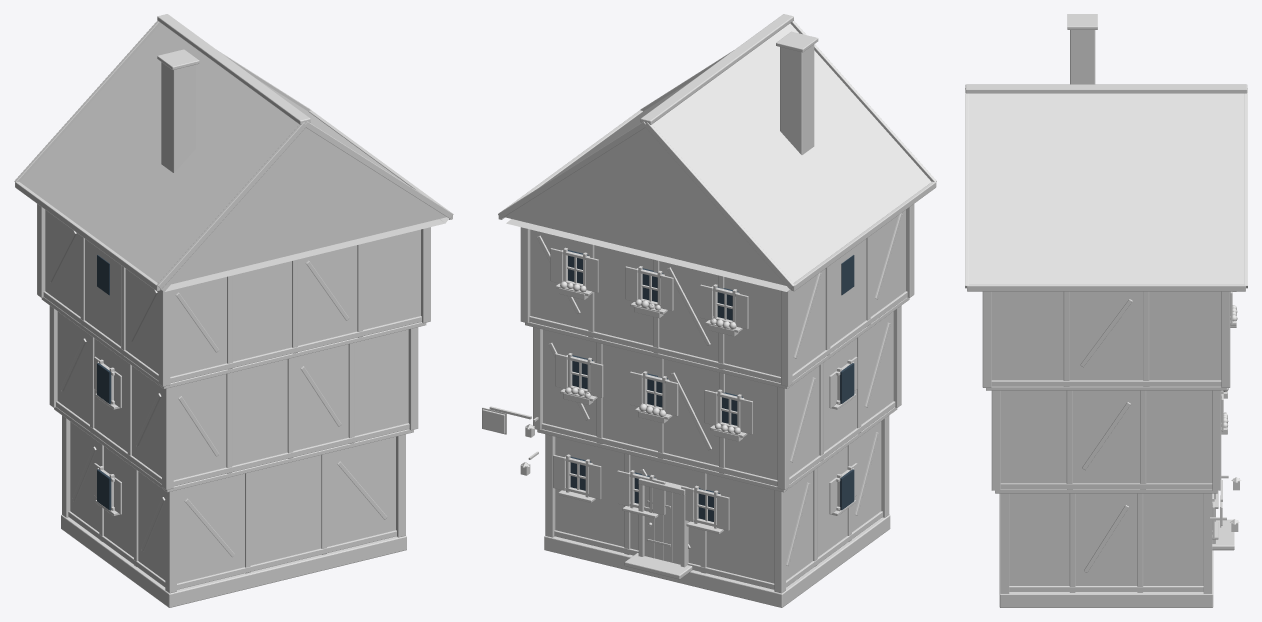
The model's file is house_d.fbx.
3 views of the same model, side by side, from view 1: azimuth 30°, elevation 25°; view 2: azimuth 150°, elevation 25°; view 3: azimuth 270°, elevation 25° (orthographic).
Visible parts, largest first — view 1: house_d; view 2: house_d; view 3: house_d.
Part boxes in pixels (bbox=[...]): house_d: bbox=[14, 14, 453, 607]; house_d: bbox=[482, 14, 936, 607]; house_d: bbox=[965, 14, 1247, 607].
Bounding box in the file's own units: 909 × 1355 × 697.
